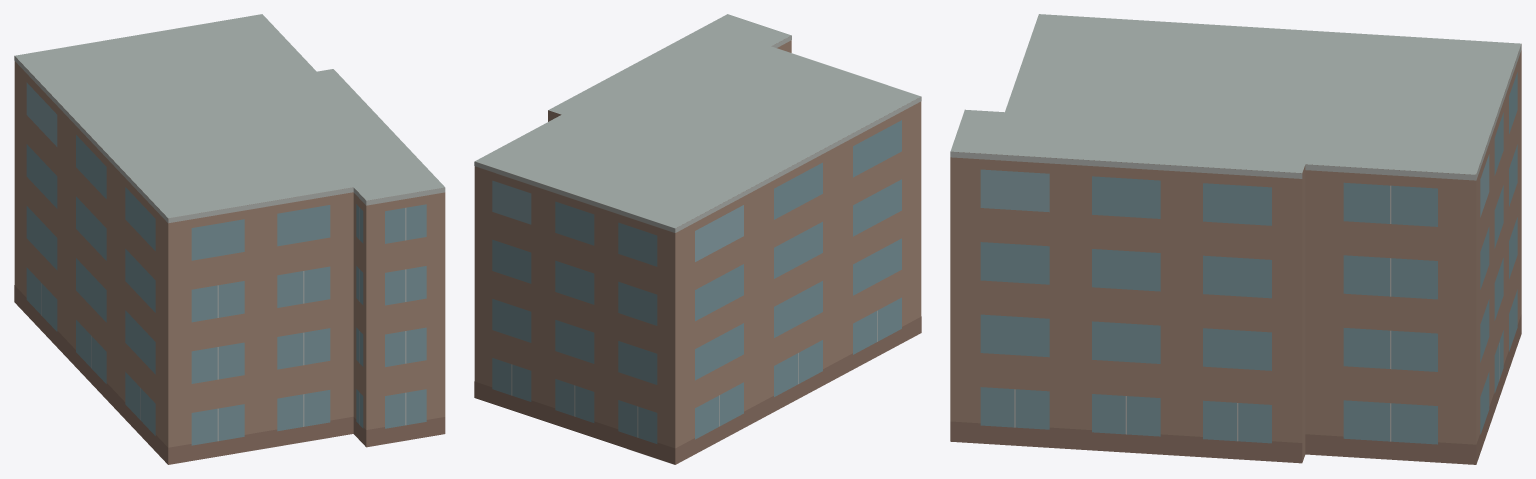
Rendered from survey-upis-32806176.glb.
3 renders of one model, left to right at view 1: azimuth 30°, elevation 25°; view 2: azimuth 150°, elevation 25°; view 3: azimuth 270°, elevation 25°, orthographic. The views are drawn at different scales.
Parts seen in each view (by area): view 1: survey-upis-32806176.tmp; view 2: survey-upis-32806176.tmp; view 3: survey-upis-32806176.tmp.
Boxes of the visible parts, left/top/right/bottom form: survey-upis-32806176.tmp: left=14, top=14, right=445, bottom=464; survey-upis-32806176.tmp: left=474, top=14, right=921, bottom=464; survey-upis-32806176.tmp: left=950, top=14, right=1521, bottom=464.
Bounding box in the file's own units: 14.51 × 12.2 × 21.78.
